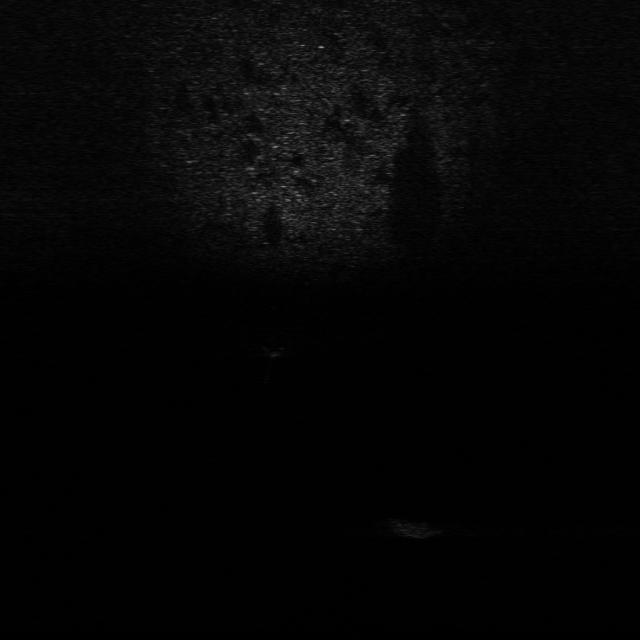ball: (254, 338, 294, 360)
metal bucket: (378, 512, 444, 540)
